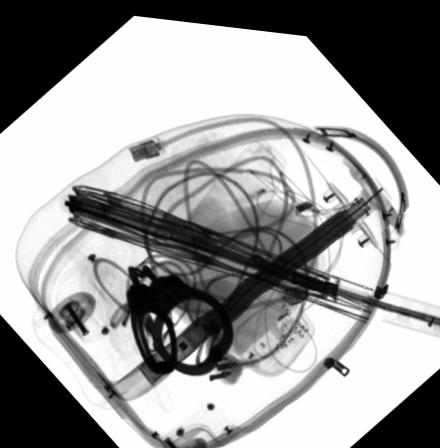HandCuffs: (124, 258, 234, 372)
